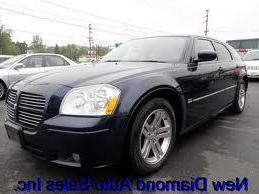Car: (2, 32, 252, 182)
